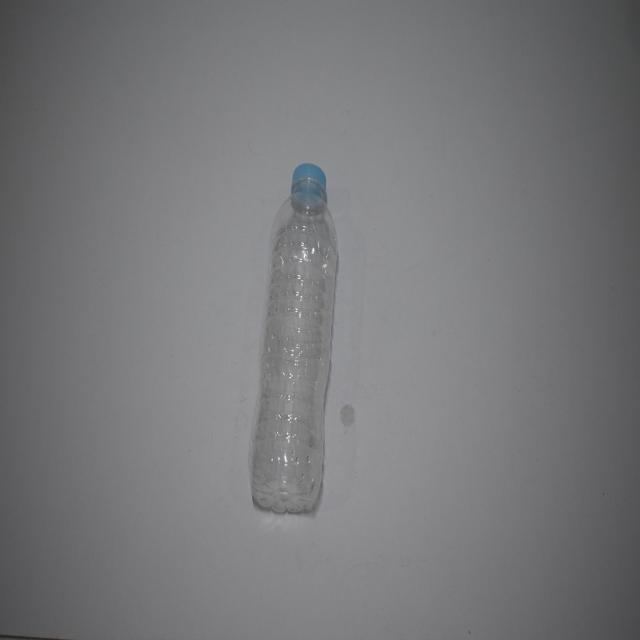bottle: (252, 157, 344, 533)
